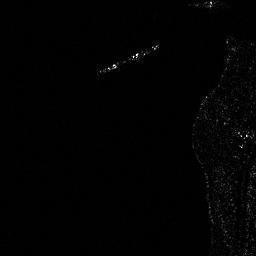ship: (92, 44, 163, 77)
